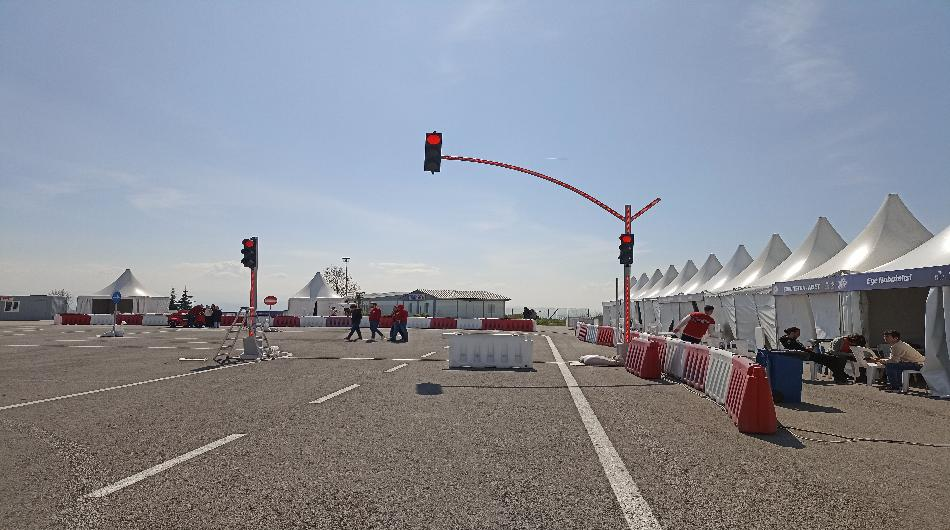red_light: (422, 130, 449, 172), (236, 234, 262, 270), (619, 236, 639, 268)
